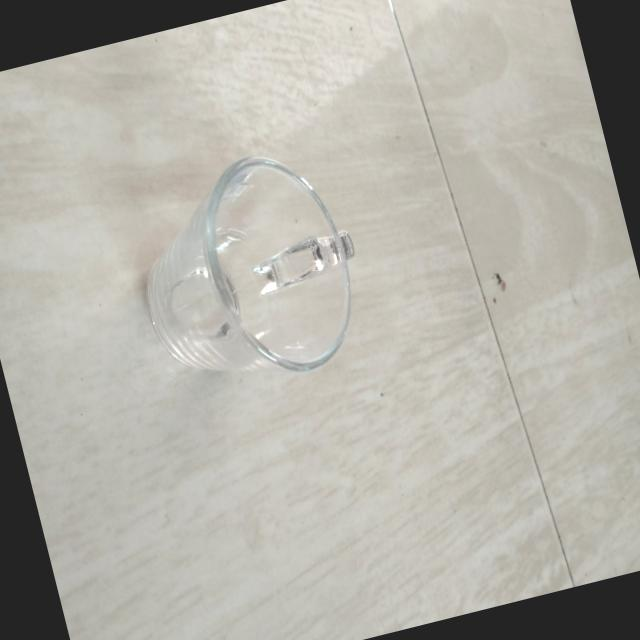glass-VX4N: (113, 132, 388, 402)
